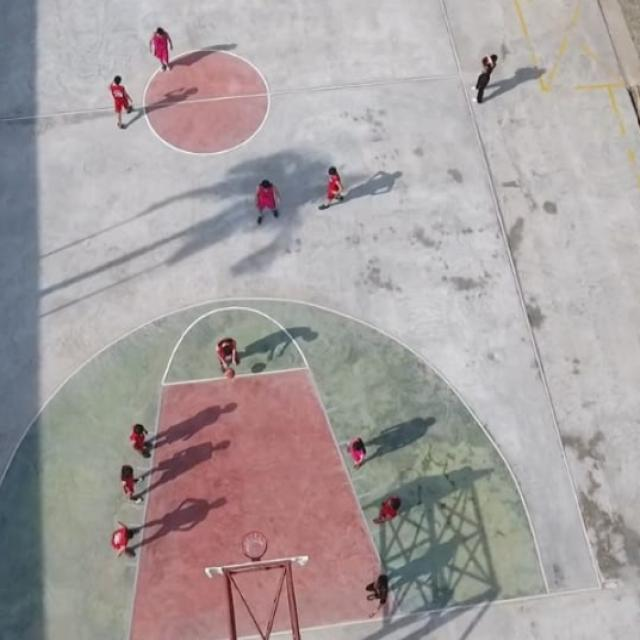humans: (105, 73, 139, 132), (472, 49, 500, 107), (252, 177, 285, 224), (146, 23, 177, 73), (320, 164, 348, 218), (109, 520, 144, 562), (116, 463, 148, 507), (217, 333, 243, 384), (126, 417, 156, 461), (365, 568, 393, 612), (375, 492, 404, 526), (344, 434, 368, 472)
